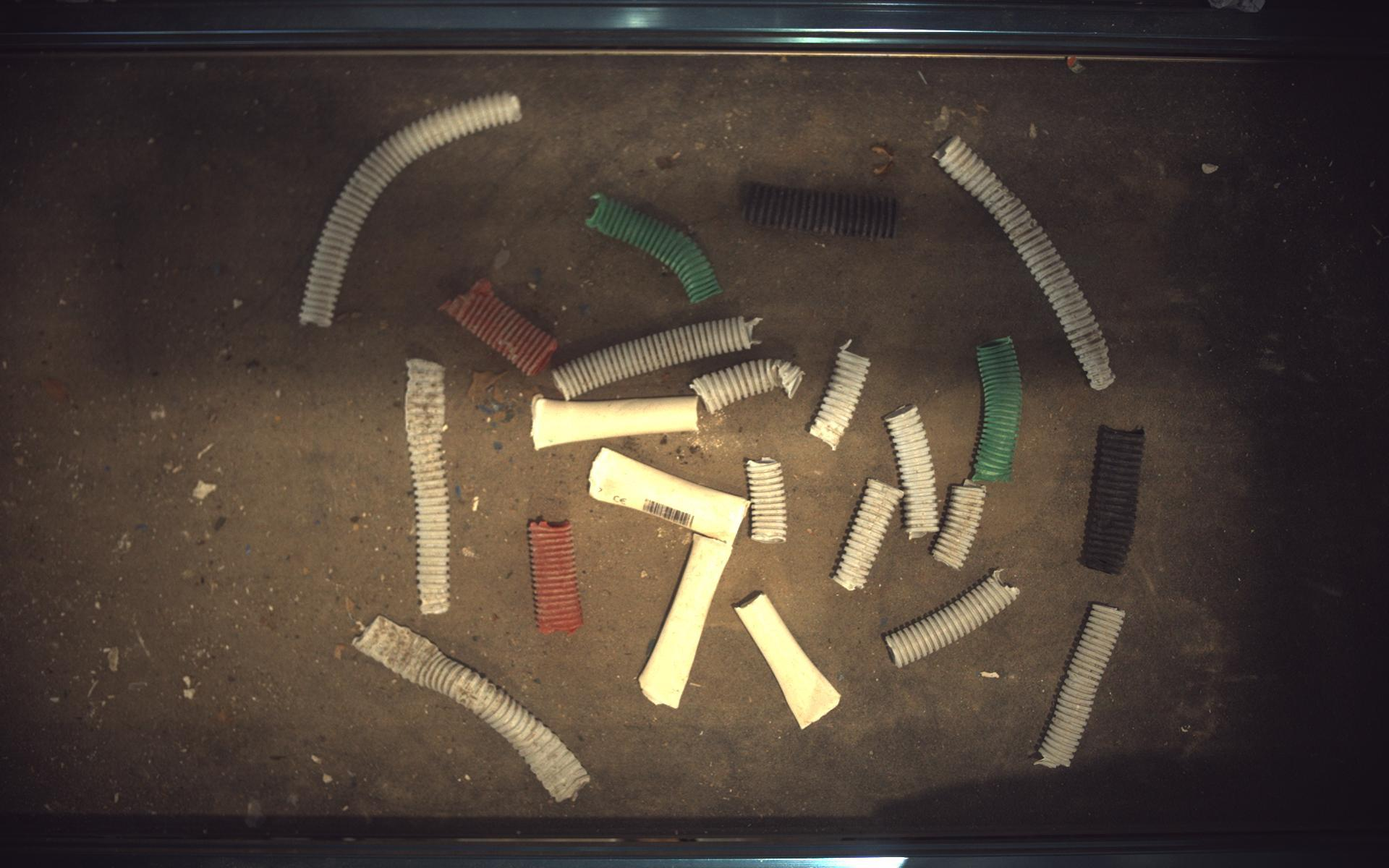pipes: (300, 91, 522, 327), (935, 136, 1118, 390), (353, 617, 590, 803), (553, 316, 760, 400), (640, 534, 733, 710), (590, 449, 751, 545), (586, 192, 723, 302), (1038, 605, 1128, 769), (736, 593, 842, 729), (885, 570, 1021, 668), (404, 358, 449, 616), (440, 279, 558, 375), (1082, 425, 1147, 575), (532, 396, 700, 449), (744, 182, 899, 237), (834, 479, 905, 591), (886, 406, 941, 540), (975, 336, 1024, 482), (810, 339, 871, 450), (691, 359, 804, 414), (529, 521, 584, 634), (933, 480, 988, 569)
